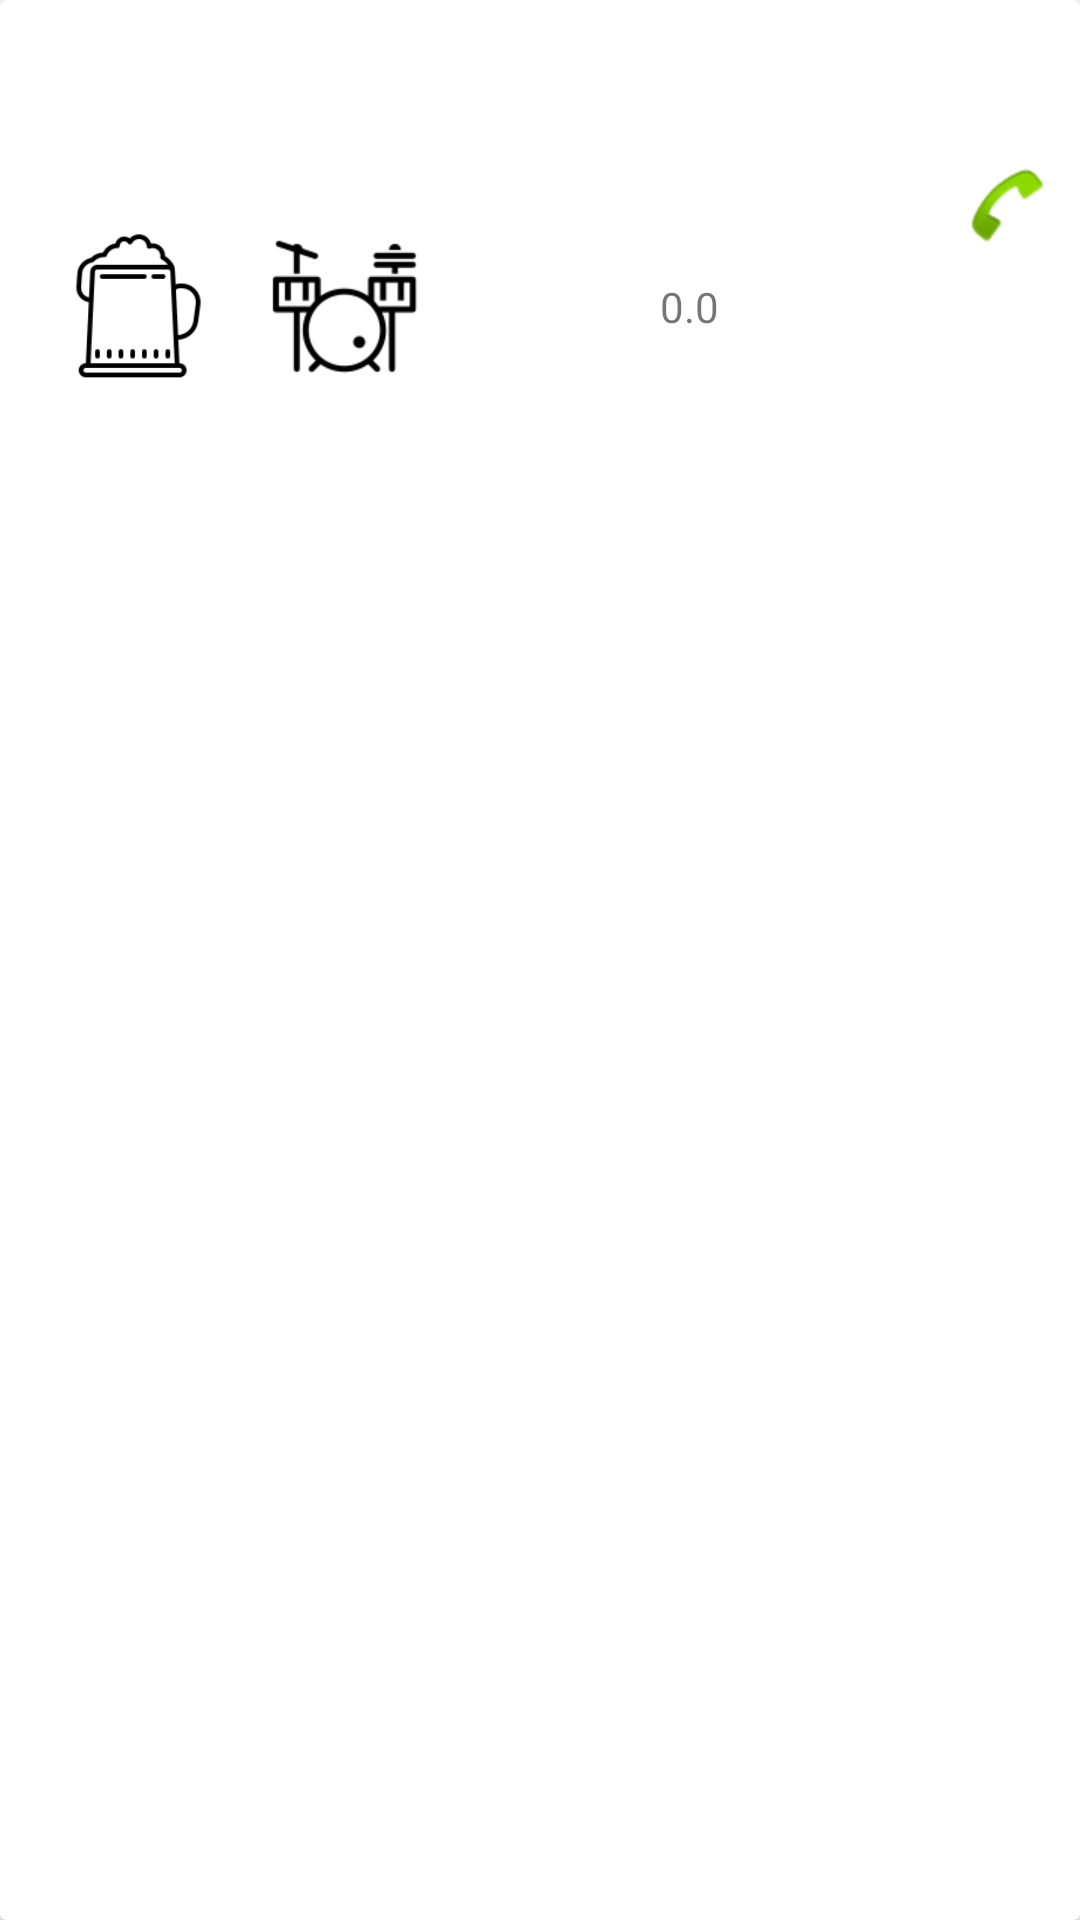

Screen size 1080*1920. Icon name, then its box in pixels as {"left": x1, "top": y1, "right": x2, "bottom": y2}:
band: {"left": 272, "top": 240, "right": 417, "bottom": 373}
beer: {"left": 76, "top": 234, "right": 201, "bottom": 378}
sym action call: {"left": 971, "top": 169, "right": 1044, "bottom": 242}
